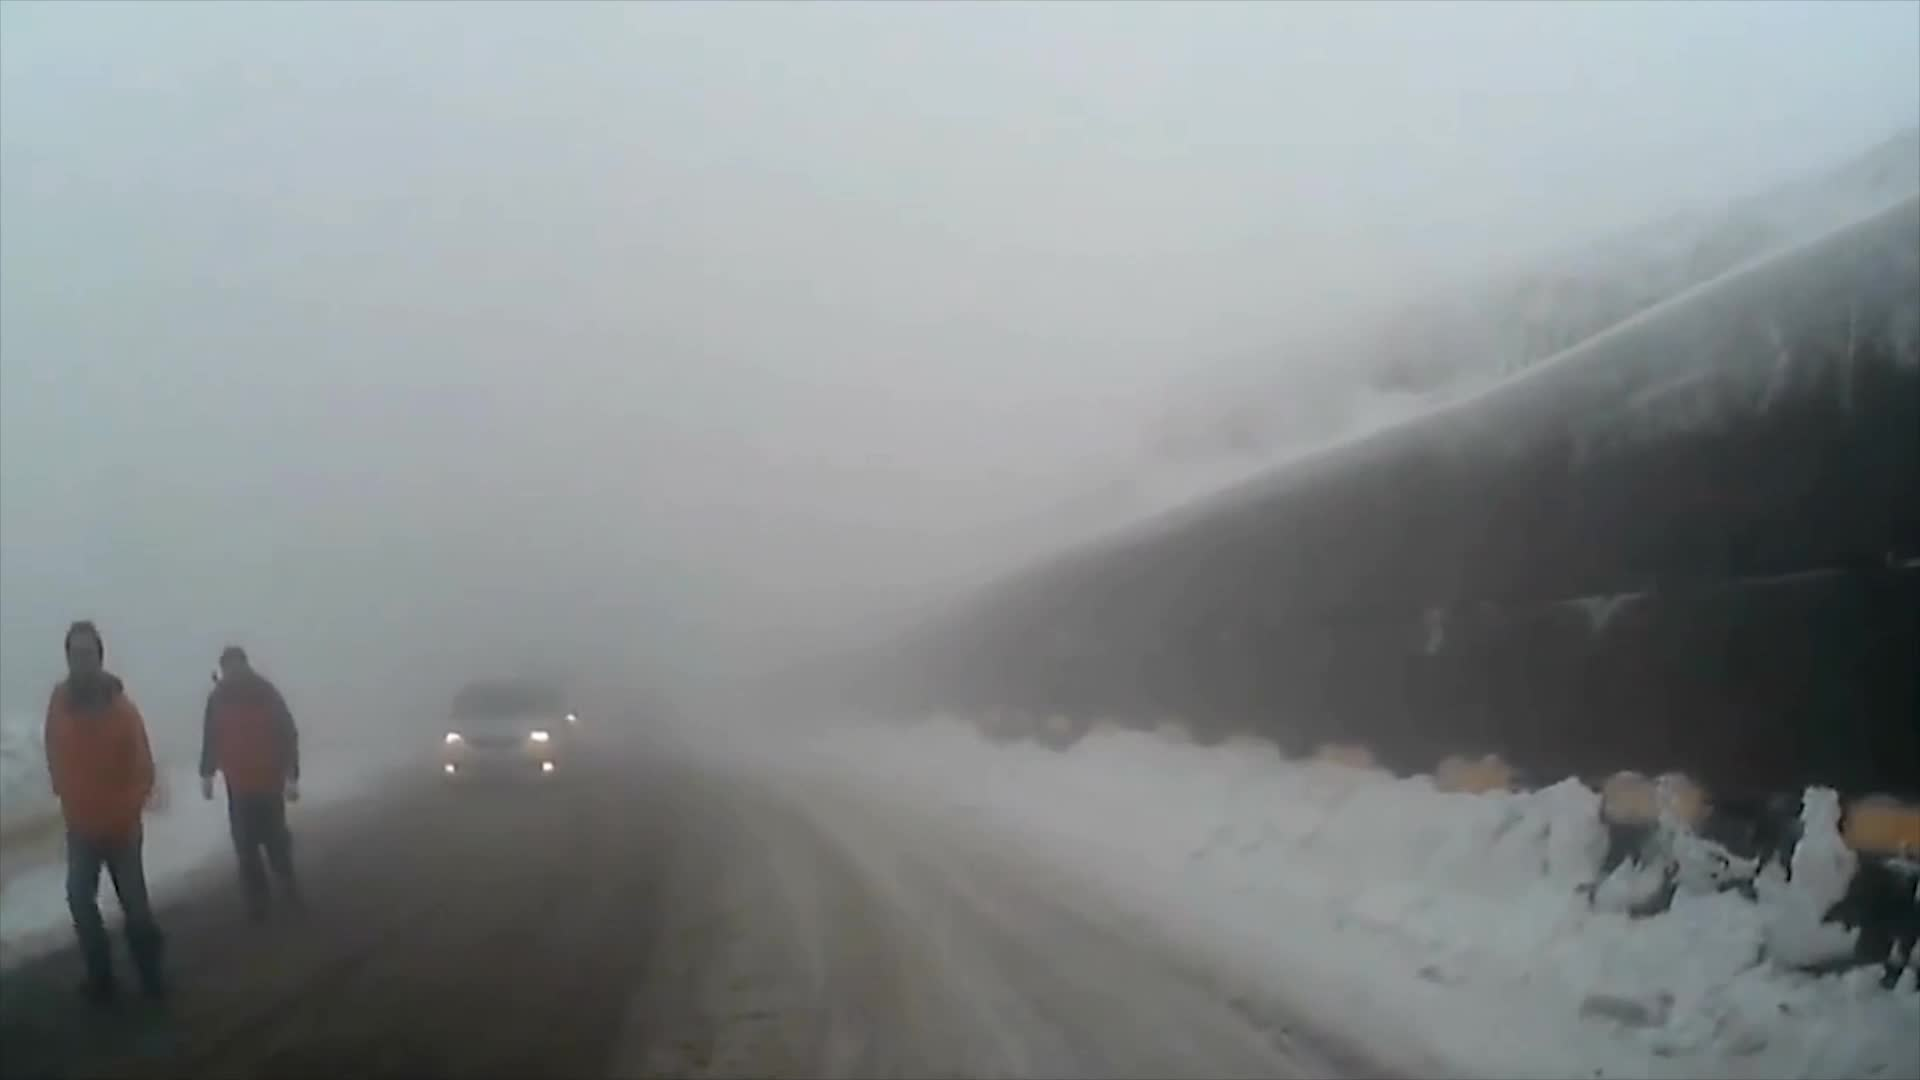pedestrian: (38, 616, 171, 1015), (198, 640, 307, 903)
vehicle: (437, 671, 572, 793)
